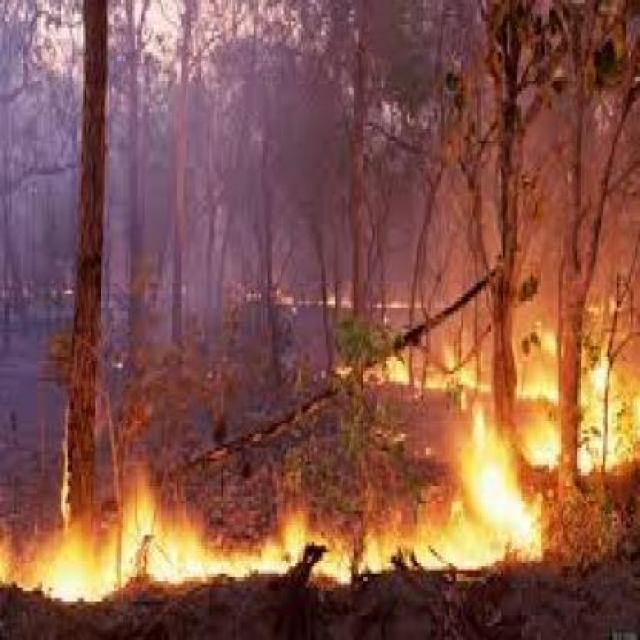Fire: (344, 276, 640, 640), (1, 454, 628, 618)
